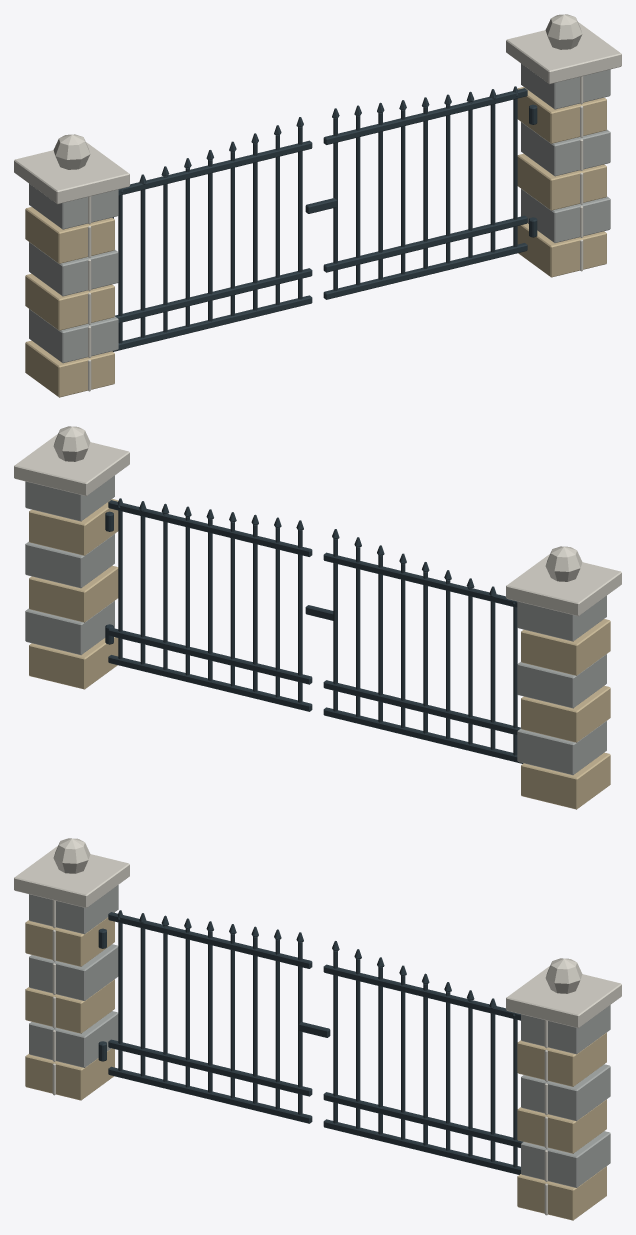
Rendered from b19_stone_pier_driveway_entry.glb.
3 renders of one model, top to bottom at view 1: azimuth 30°, elevation 25°; view 2: azimuth 150°, elevation 25°; view 3: azimuth 330°, elevation 25°, orthographic.
Visible parts, largest first — view 1: b19_stone_pier_driveway_entry; view 2: b19_stone_pier_driveway_entry; view 3: b19_stone_pier_driveway_entry.
Part boxes in pixels (box(x1,y1,x2,y2)): b19_stone_pier_driveway_entry: box(14, 14, 621, 397); b19_stone_pier_driveway_entry: box(14, 426, 621, 809); b19_stone_pier_driveway_entry: box(14, 838, 621, 1220).
Size of the model in its own units: 4.78 by 1.97 by 0.64.
